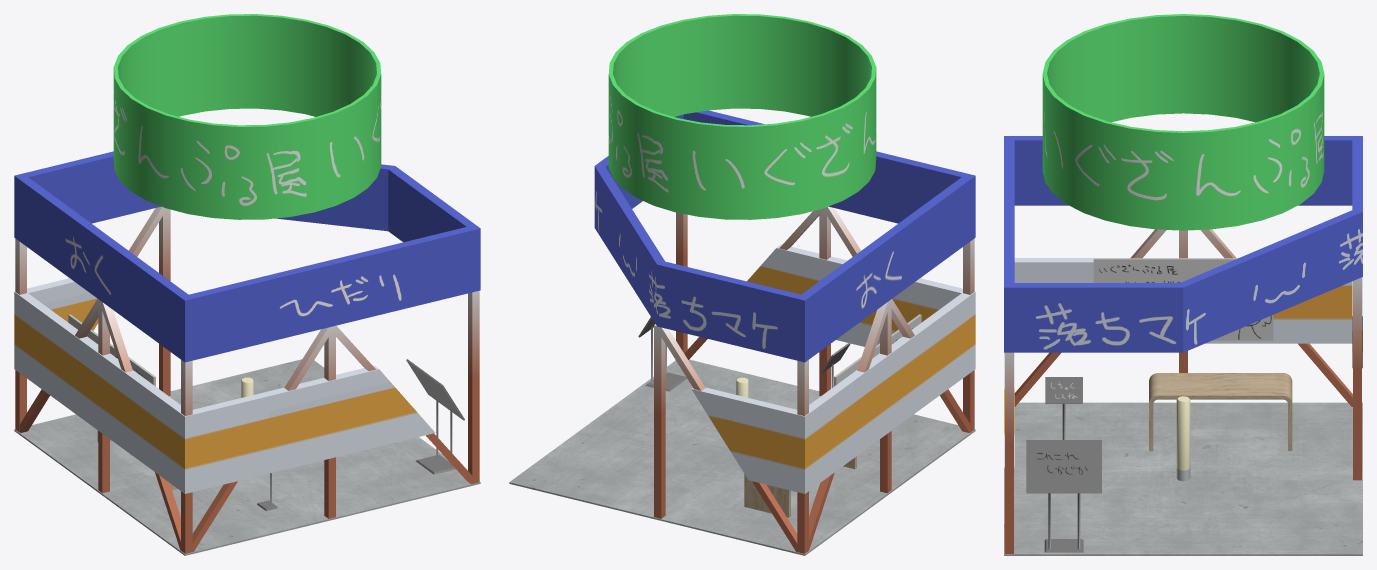
The model's file is DefaultBooth.fbx.
3 renders of one model, left to right at view 1: azimuth 30°, elevation 25°; view 2: azimuth 150°, elevation 25°; view 3: azimuth 270°, elevation 25°, orthographic. The views are drawn at different scales.
Visible parts, largest first — view 1: OchiKet_Booth_NeutralIndustry, OchiKet_Booth_TopCylinder, OchiKet_Booth_PopStand; view 2: OchiKet_Booth_NeutralIndustry, OchiKet_Booth_TopCylinder, OchiKet_Booth_Desk, OchiKet_Booth_PopStand; view 3: OchiKet_Booth_NeutralIndustry, OchiKet_Booth_TopCylinder, OchiKet_Booth_PopStand, OchiKet_Booth_Desk, OchiKet_Booth_BarLight, OchiKet_Booth_PopStandMini.
Part boxes in pixels (box(x1,y1,x2,y2)): OchiKet_Booth_NeutralIndustry: box(14, 151, 480, 555); OchiKet_Booth_TopCylinder: box(113, 14, 381, 219); OchiKet_Booth_PopStand: box(406, 359, 464, 474); OchiKet_Booth_NeutralIndustry: box(509, 110, 975, 555); OchiKet_Booth_TopCylinder: box(608, 14, 876, 219); OchiKet_Booth_Desk: box(744, 456, 856, 517); OchiKet_Booth_PopStand: box(638, 317, 686, 391); OchiKet_Booth_NeutralIndustry: box(1004, 136, 1362, 555); OchiKet_Booth_TopCylinder: box(1042, 14, 1324, 230); OchiKet_Booth_PopStand: box(1026, 440, 1101, 552); OchiKet_Booth_Desk: box(1149, 373, 1292, 450); OchiKet_Booth_BarLight: box(1176, 396, 1190, 481); OchiKet_Booth_PopStandMini: box(1045, 377, 1082, 439).
Bounding box in the file's own units: 400 × 508 × 400.
2 materials, 2 textured.
